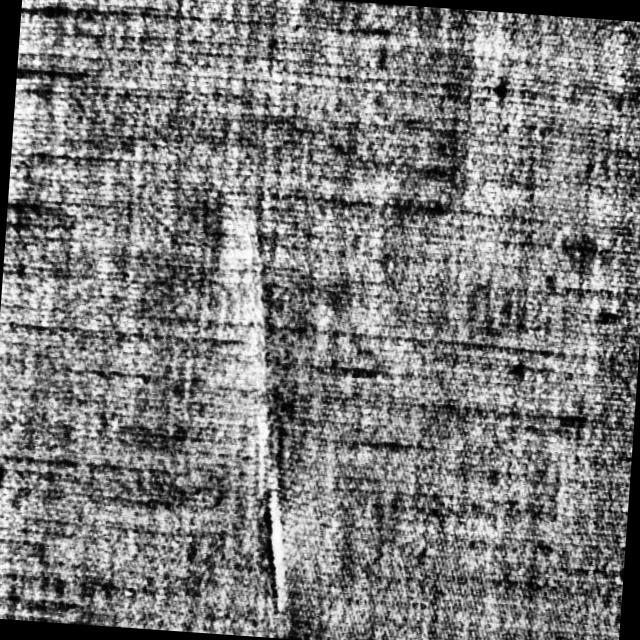gray stitch: (216, 218, 318, 622)
